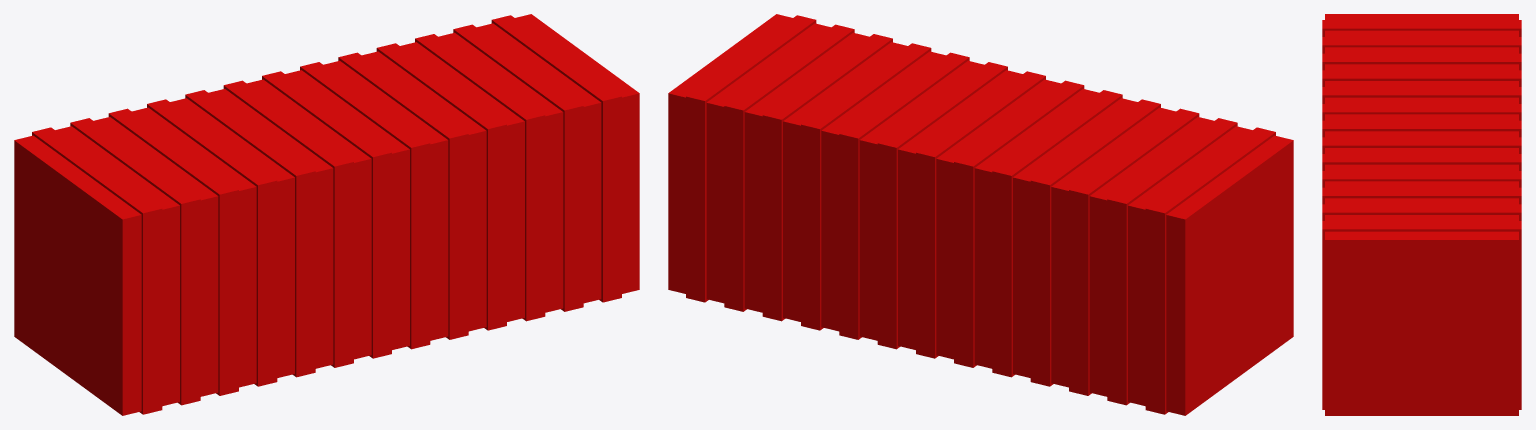
File: Container.fbx
The picture shows the model from 3 angles, left to right: view 1: azimuth 30°, elevation 25°; view 2: azimuth 150°, elevation 25°; view 3: azimuth 270°, elevation 25°; orthographic projection. The views are drawn at different scales.
Parts seen in each view (by area): view 1: Container; view 2: Container; view 3: Container.
Boxes of the visible parts, x1,y1,x2,y2 form: Container: [14, 14, 639, 415]; Container: [668, 14, 1293, 415]; Container: [1322, 14, 1521, 415].
Bounding box in the file's own units: 5.35 × 1.99 × 1.99.
